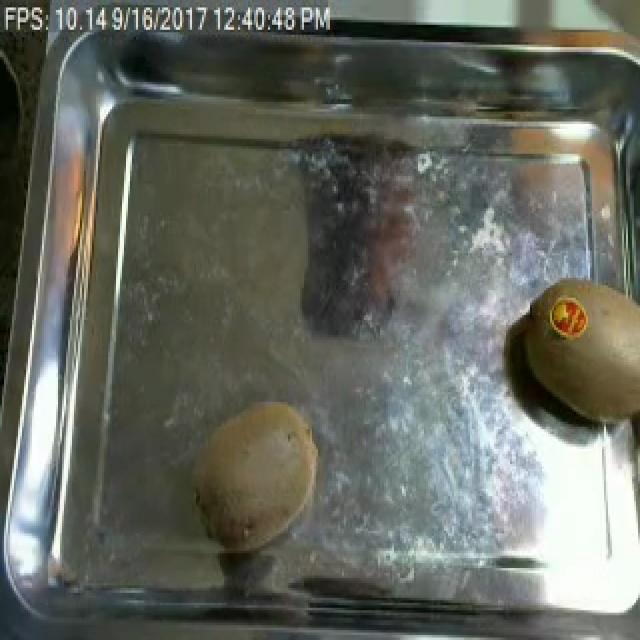Fruit: (182, 390, 330, 563), (512, 270, 640, 437)
